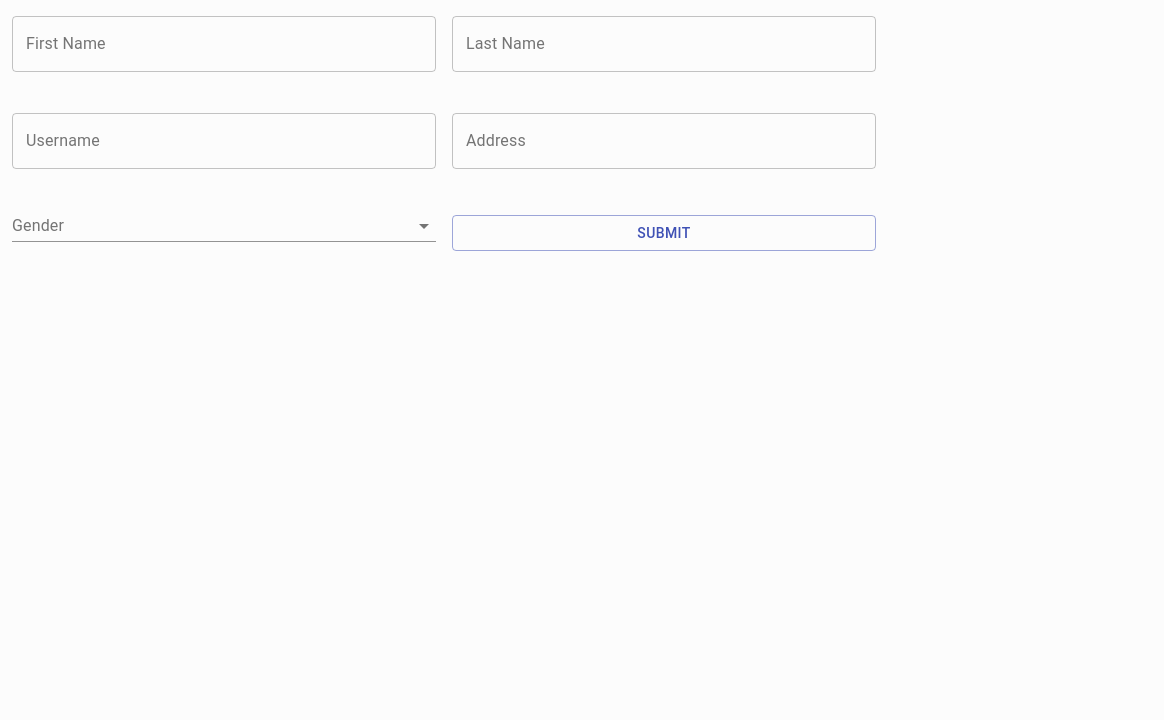
Test case: UserForm › submits user responses and creates a new user
Step 1. Type "Eli" into the field named "firstName" → (224, 44), box top-left (12, 16), bottom-right (436, 72)
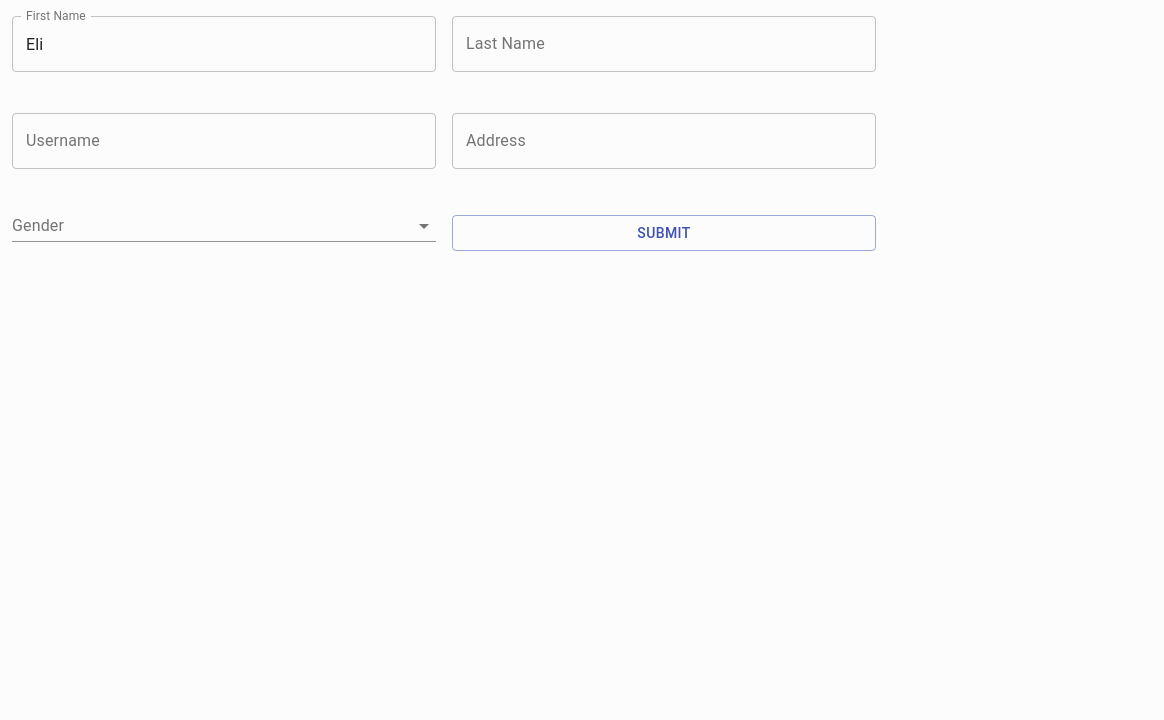
Step 2. Type "Manning" into the field named "lastName" → (664, 44), box top-left (452, 16), bottom-right (876, 72)
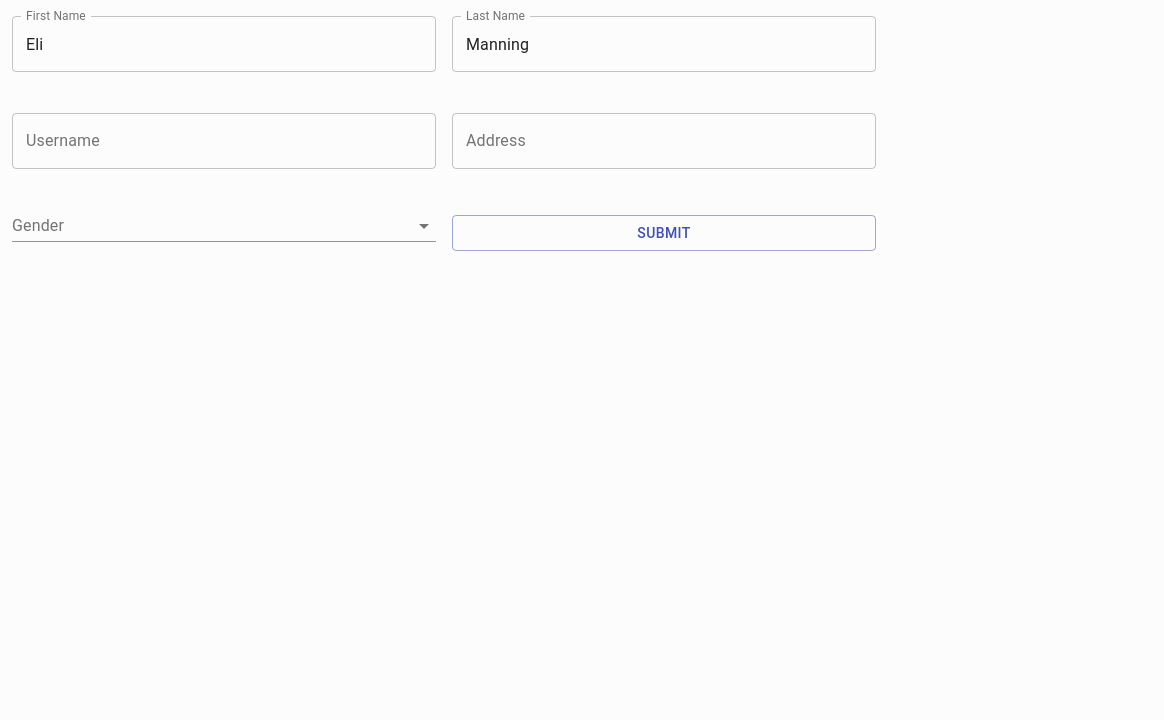
Step 3. Type "nyg10" into the field named "username" → (224, 141), box top-left (12, 113), bottom-right (436, 169)
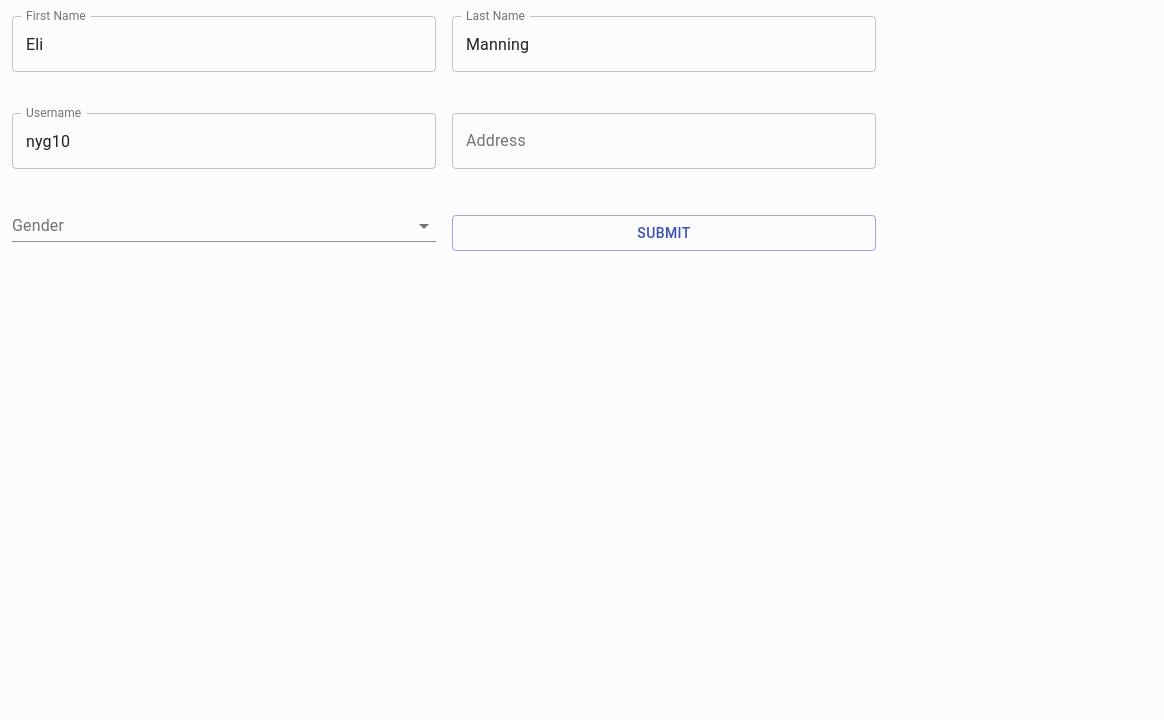
Step 4. Type "1925 Giants Drive" into the field named "address" → (664, 141), box top-left (452, 113), bottom-right (876, 169)
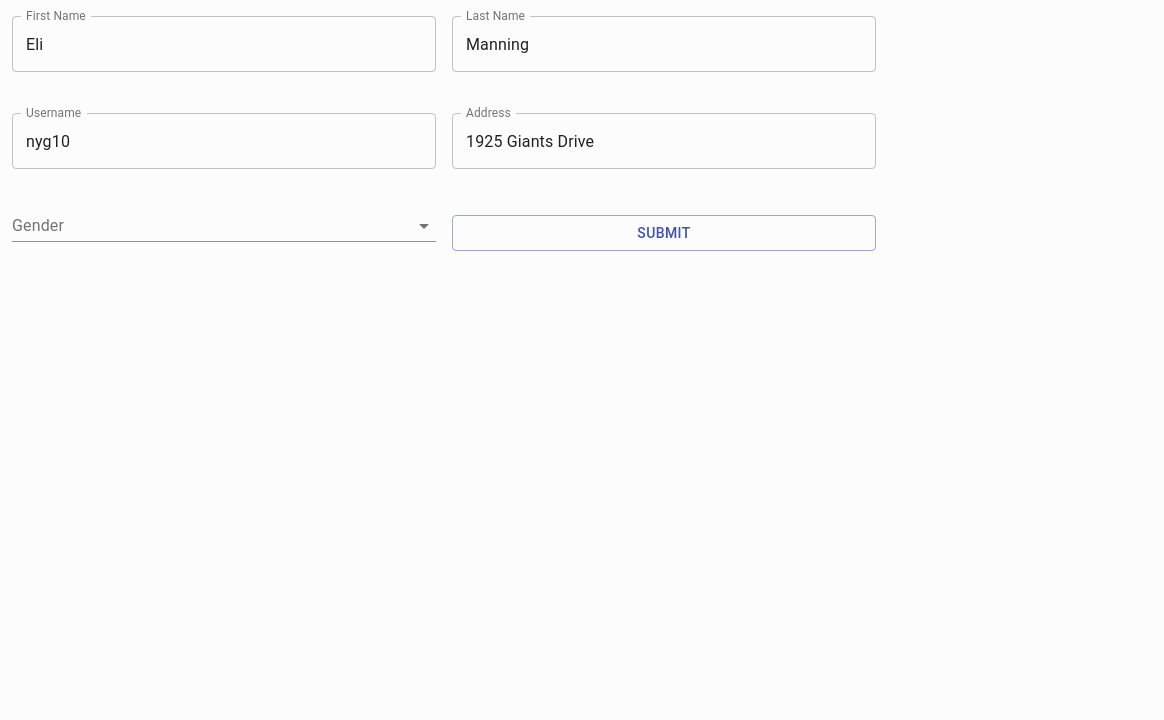
Step 5. Select "Male" in the dropdown named "gender" → (224, 226), box top-left (12, 210), bottom-right (436, 242)
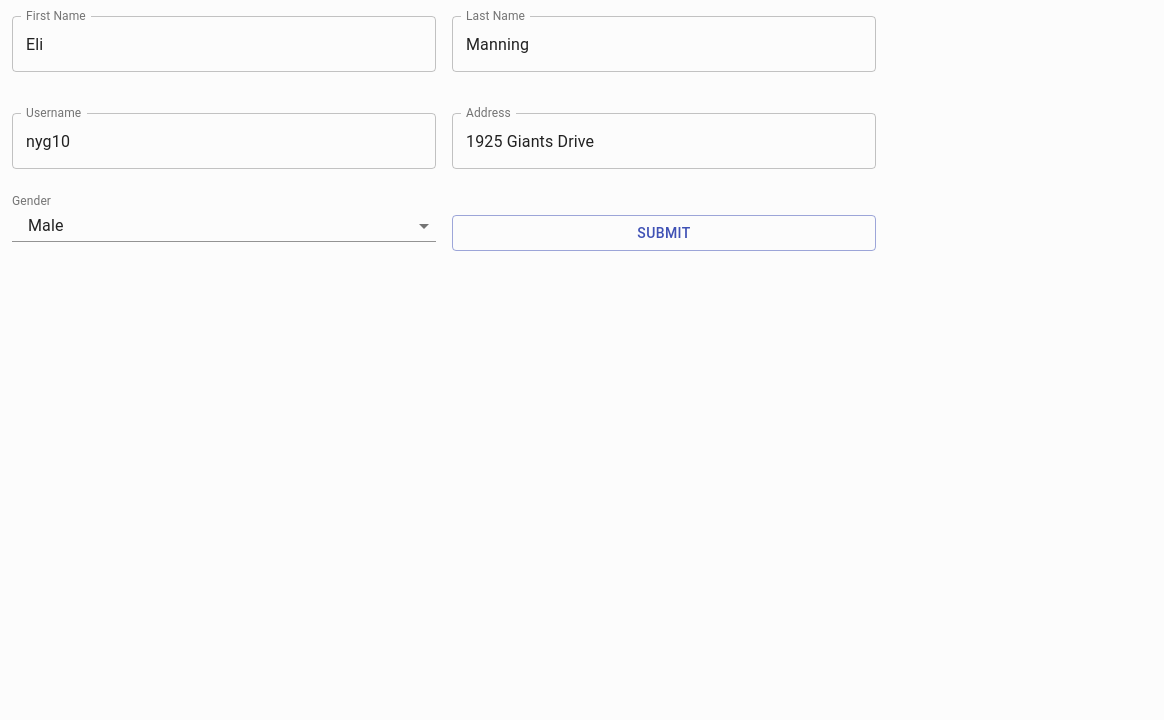
Step 6. Click the button "Submit" → (664, 233), box top-left (452, 214), bottom-right (876, 251)
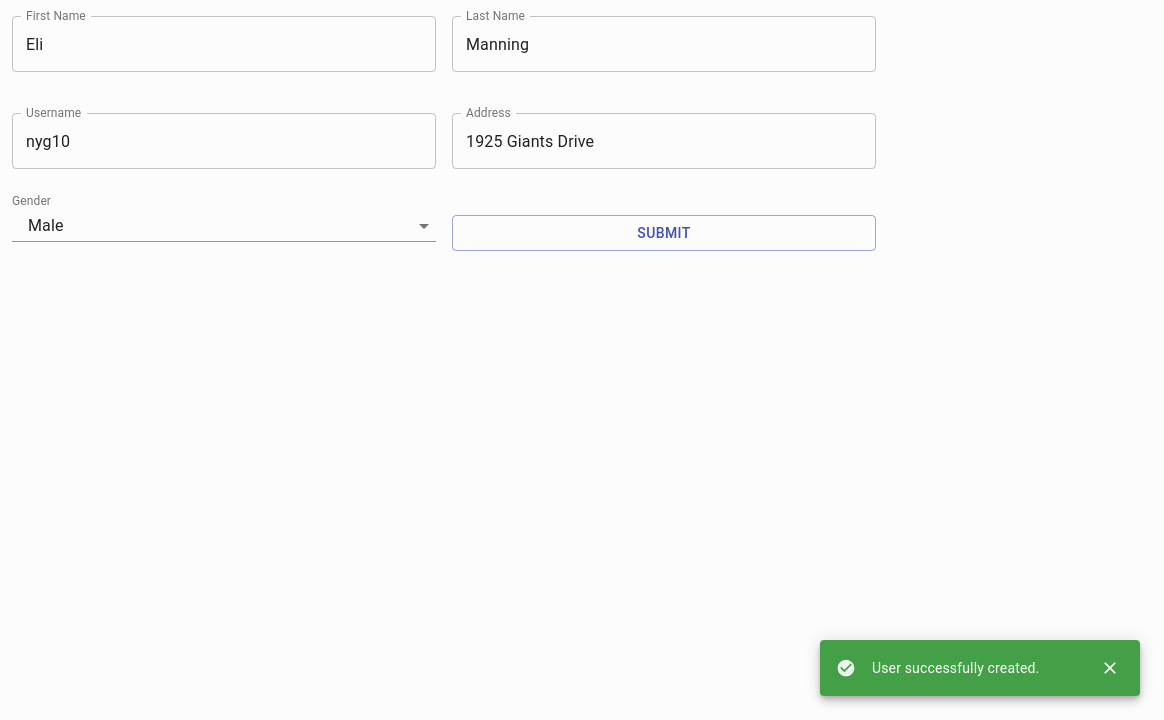
expect the text "User successfully created." is shown: met, box top-left (836, 658), bottom-right (1039, 678)
